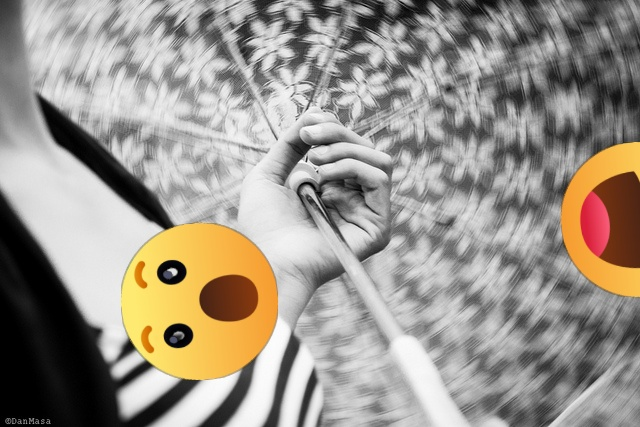haha: (561, 142, 640, 297)
wow: (121, 223, 278, 380)
